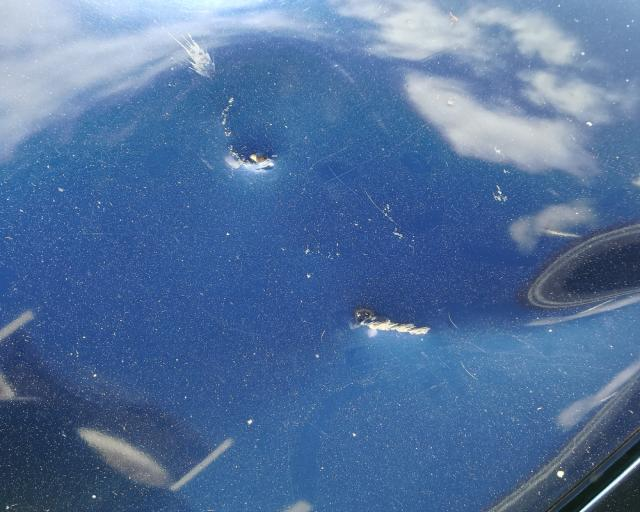dent: (210, 93, 289, 190), (333, 299, 460, 352)
